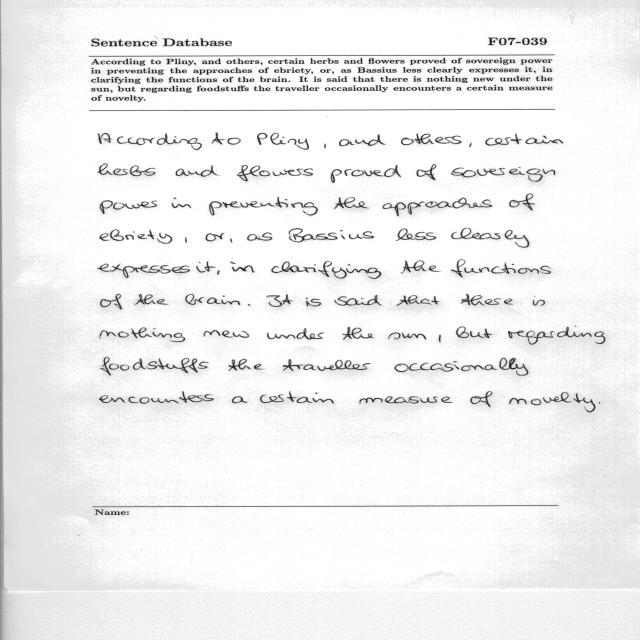word: (395, 358, 529, 376), (209, 197, 318, 216), (101, 357, 209, 376), (383, 198, 493, 216), (272, 261, 382, 279), (451, 260, 551, 278), (98, 133, 202, 150), (508, 327, 605, 345), (509, 392, 596, 412), (451, 167, 555, 182), (451, 228, 529, 248), (99, 391, 214, 404), (98, 264, 190, 278), (289, 228, 374, 243), (100, 328, 185, 343), (331, 165, 401, 183), (237, 165, 313, 181), (283, 359, 371, 371), (99, 230, 172, 244), (485, 133, 563, 146), (260, 392, 334, 404), (257, 133, 309, 150), (100, 200, 157, 214), (360, 396, 453, 404), (98, 164, 156, 176), (267, 328, 324, 340), (401, 134, 462, 145), (186, 294, 241, 305), (461, 294, 513, 305), (339, 135, 385, 147), (334, 295, 382, 306), (401, 261, 440, 274), (176, 165, 218, 177), (396, 229, 436, 241), (396, 295, 439, 306), (509, 194, 535, 211), (456, 327, 492, 339), (334, 197, 369, 209), (229, 359, 264, 371), (343, 327, 374, 340), (135, 294, 168, 305), (204, 330, 249, 338), (471, 391, 493, 407), (267, 294, 293, 307), (211, 133, 241, 144), (197, 261, 220, 275), (417, 164, 437, 180), (101, 294, 122, 309), (388, 333, 427, 340), (247, 232, 272, 241), (172, 198, 191, 208), (232, 266, 255, 273), (206, 233, 225, 241), (306, 298, 321, 307), (232, 397, 247, 404), (533, 300, 545, 306), (439, 335, 441, 343), (469, 143, 472, 147), (185, 237, 187, 243), (324, 144, 326, 149), (230, 262, 235, 264), (230, 239, 232, 243), (248, 304, 251, 306), (599, 402, 600, 404)
